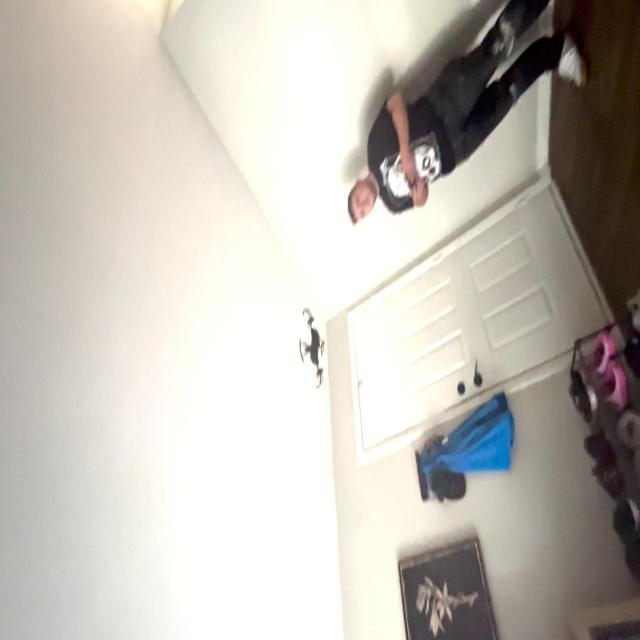drone: (292, 292, 332, 403)
